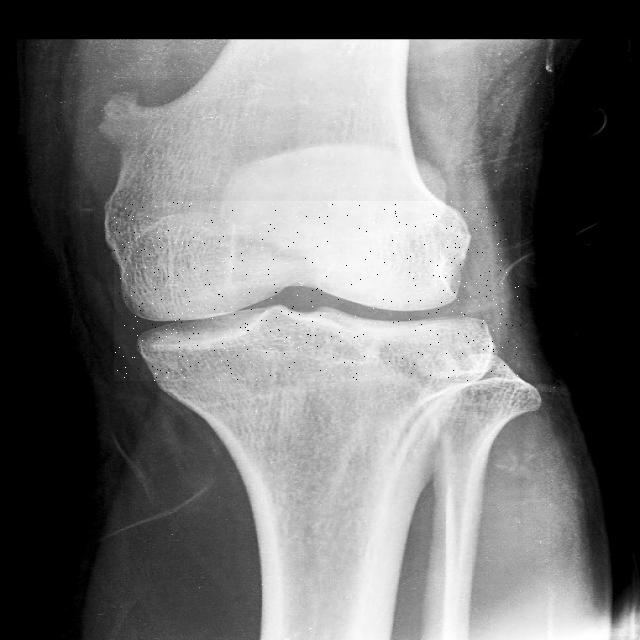normal: (114, 201, 521, 381)
